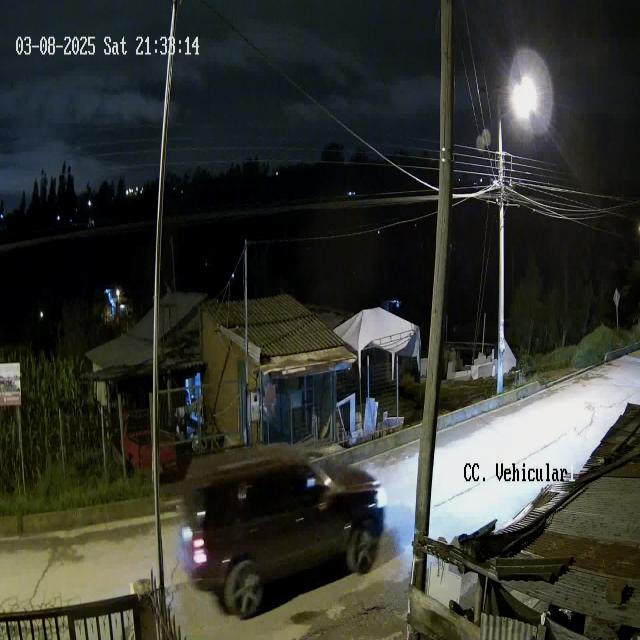SUV: (183, 437, 385, 619)
